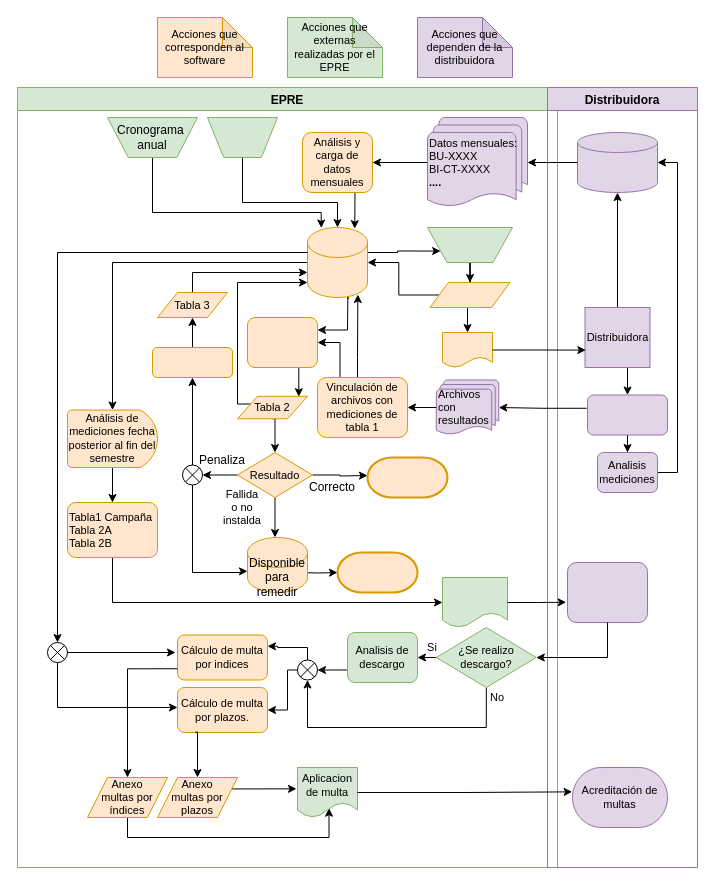
Some shapes in this 715 by 885 pixel diagram are drawn without their labels. The box of each missing label's shape, as (x1, y1, x2, y2) in pixels:
Actas: (442, 332, 492, 368)
Analisis de archivos: (246, 316, 318, 368)
Analisis formulacion de cargos: (566, 562, 648, 622)
Base de datos ditribuidora: (576, 132, 658, 192)
Calculo de penalizaciones: (152, 346, 232, 378)
Campaña de Remediciones: (336, 551, 418, 593)
Carga de feriados: (206, 116, 278, 158)
Datos producto tecnico: (306, 226, 368, 298)
Formulacion de cargos: (442, 576, 508, 628)
Instalación y retiro: (586, 394, 668, 435)
Medición finalizada: (366, 456, 448, 498)
Seleccion de puntos: (426, 226, 512, 262)
Tabla 1: (429, 282, 510, 308)
